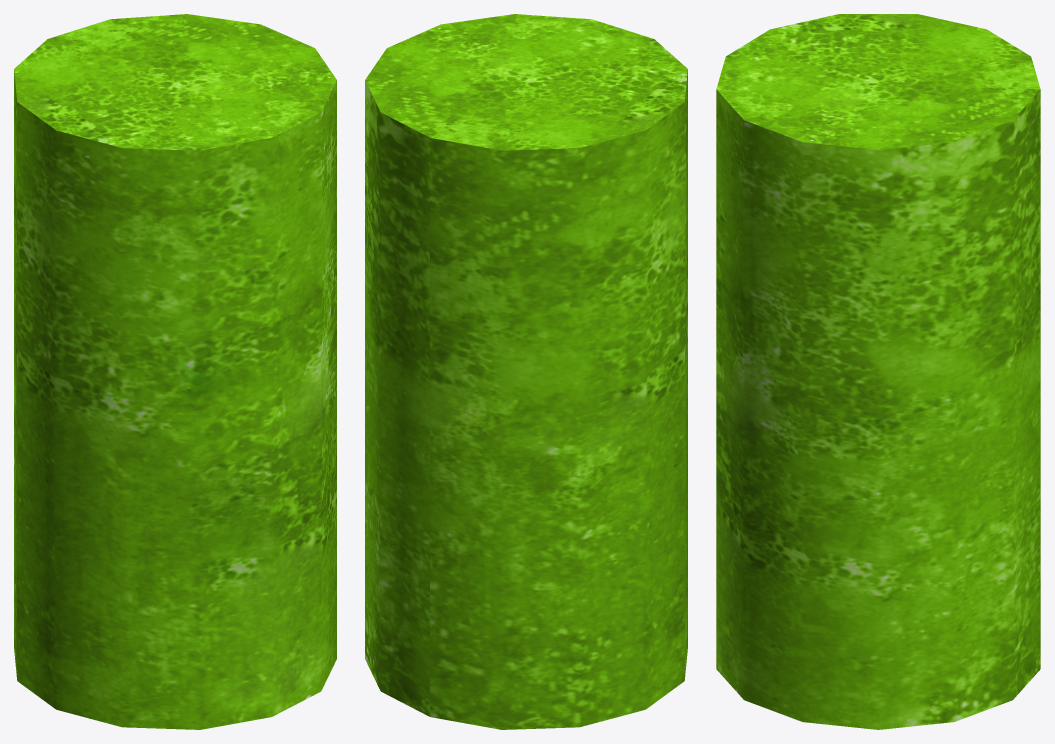
Rendered from Obj_TubeContents_1.FBX.
The picture shows the model from 3 angles, left to right: view 1: azimuth 30°, elevation 25°; view 2: azimuth 150°, elevation 25°; view 3: azimuth 270°, elevation 25°; orthographic projection.
Visible parts, largest first — view 1: TubeContents; view 2: TubeContents; view 3: TubeContents.
Part boxes in pixels (<box>): TubeContents: <box>14,14,336,729</box>; TubeContents: <box>365,14,687,729</box>; TubeContents: <box>716,14,1040,729</box>.
Size of the model in its own units: 0.7574 by 1.51 by 0.763.
